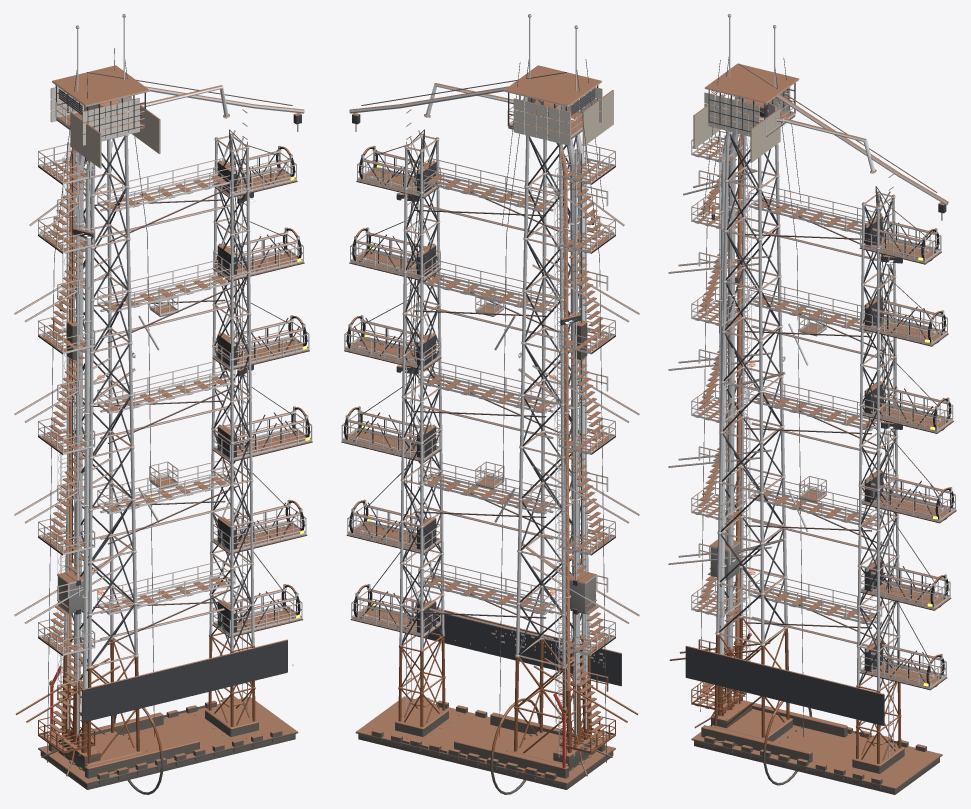
The model's file is launch_tower.glb.
3 views of the same model, side by side, from view 1: azimuth 30°, elevation 25°; view 2: azimuth 150°, elevation 25°; view 3: azimuth 330°, elevation 25° (orthographic). The views are drawn at different scales.
Visible parts, largest first — view 1: tower_body; view 2: tower_body; view 3: tower_body.
Part boxes in pixels (left/top/right/bottom): tower_body: left=14, top=14, right=312, bottom=794; tower_body: left=341, top=14, right=639, bottom=794; tower_body: left=668, top=14, right=956, bottom=794.
Size of the model in its own units: 20.72 by 54.35 by 6.93.
